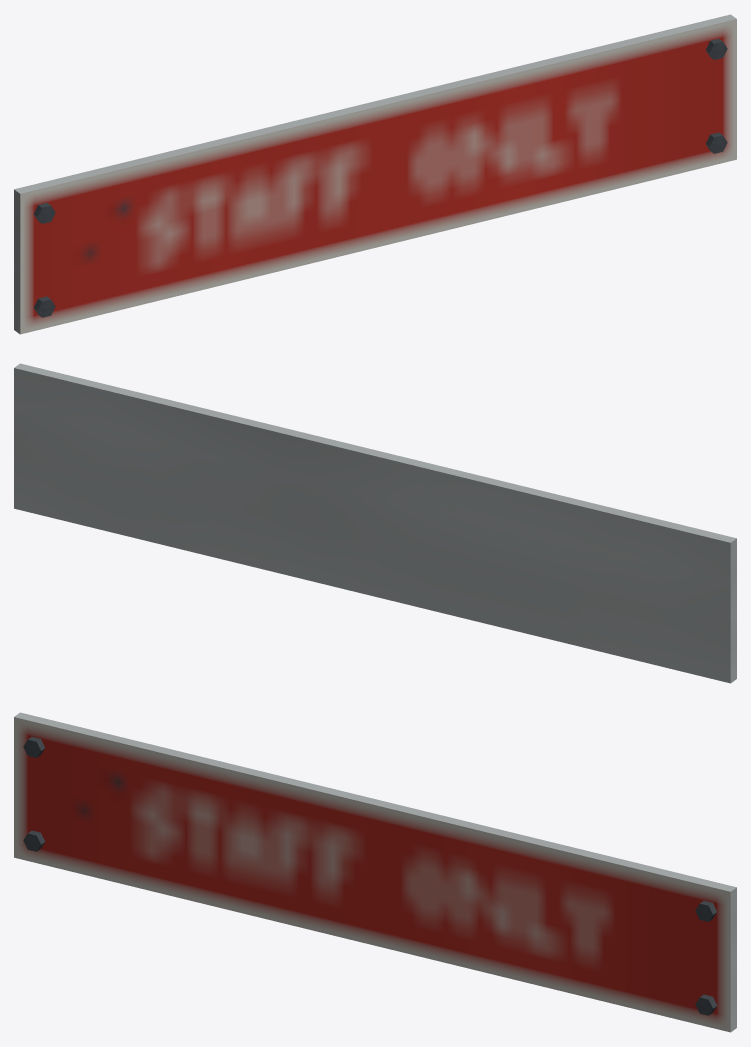
Rendered from sign_staff_only.fbx.
3 renders of one model, top to bottom at view 1: azimuth 30°, elevation 25°; view 2: azimuth 150°, elevation 25°; view 3: azimuth 330°, elevation 25°, orthographic.
Parts seen in each view (by area): view 1: sign_staff_only; view 2: sign_staff_only; view 3: sign_staff_only.
Part boxes in pixels (x1=…): sign_staff_only: x1=14, y1=14, x2=736, y2=334; sign_staff_only: x1=14, y1=363, x2=736, y2=683; sign_staff_only: x1=14, y1=712, x2=736, y2=1032.
Size of the model in its own units: 0.8 by 0.15 by 0.02.
1 material, 1 textured.
